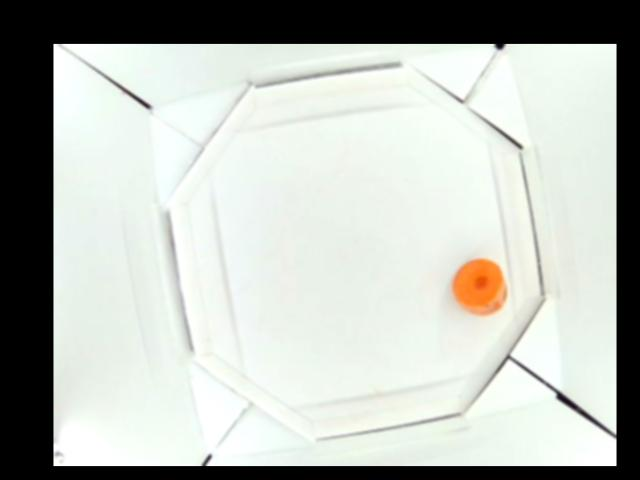Carrot: (456, 259, 507, 314)
